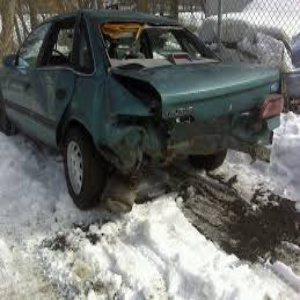bonnet: (143, 68, 255, 116)
bumper: (111, 129, 274, 180)
